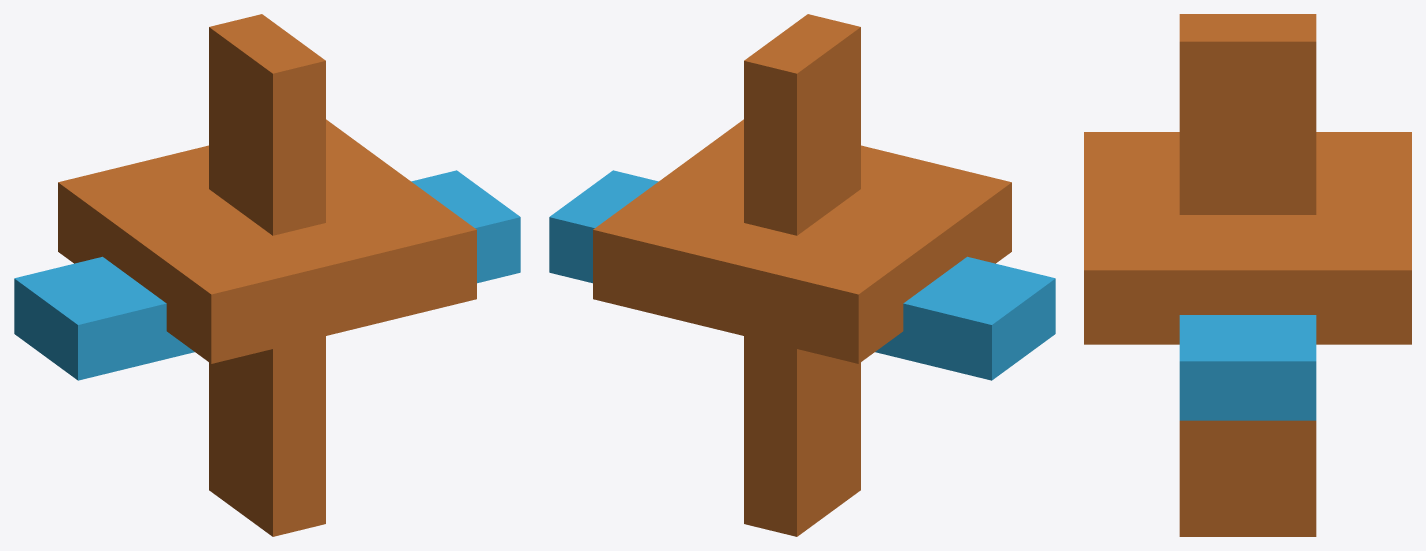
The model's file is matrix.glb.
3 renders of one model, left to right at view 1: azimuth 30°, elevation 25°; view 2: azimuth 150°, elevation 25°; view 3: azimuth 270°, elevation 25°, orthographic. The views are drawn at different scales.
Parts seen in each view (by area): view 1: part (×3); view 2: part (×3); view 3: part (×3).
Part boxes in pixels (x1,y1,x2,y2): part (×3): [14, 14, 520, 536]; part (×3): [549, 14, 1055, 536]; part (×3): [1084, 14, 1411, 536].
Size of the model in its own units: 2 by 2 by 1.2.
